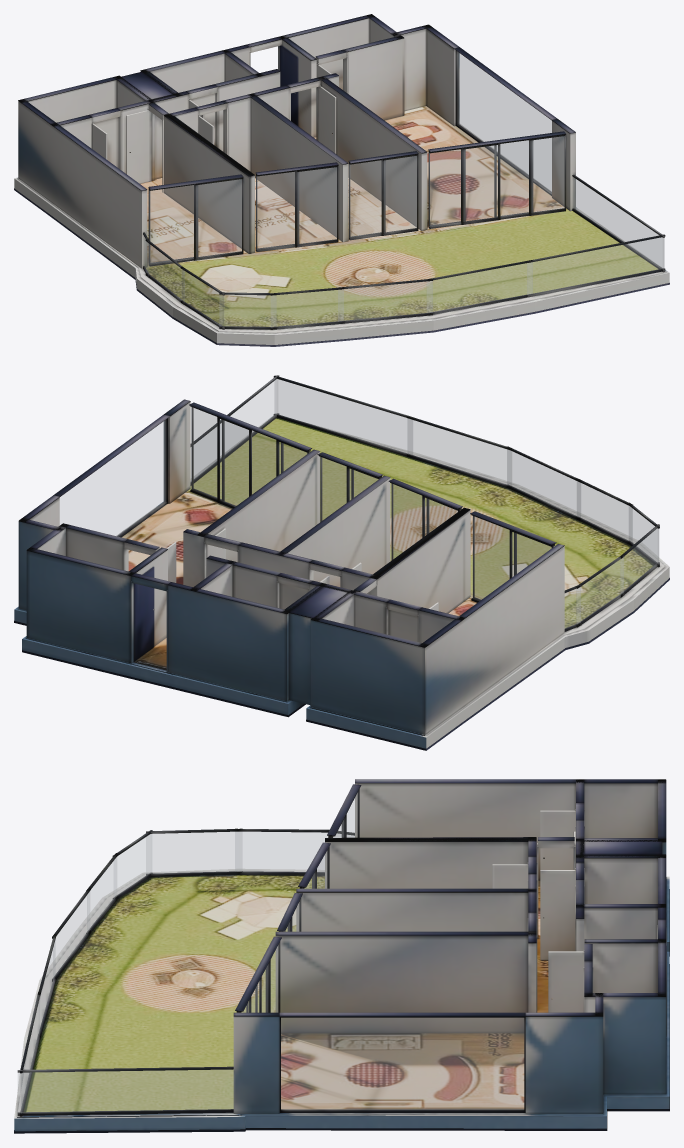
3 renders of one model, top to bottom at view 1: azimuth 30°, elevation 25°; view 2: azimuth 150°, elevation 25°; view 3: azimuth 270°, elevation 25°, orthographic. The views are drawn at different scales.
Visible parts, largest first — view 1: plan, glass3_m, glass0_m, glass4_m, glass1_m, glass2_m, railg1_m, railg2_m, railg3_m, railg0_m, railg4_m, railg5_m (+2 smaller); view 2: plan, glass4_m, glass3_m, railg1_m, railg2_m, glass0_m, railg3_m, railg0_m, glass1_m, railg4_m, glass2_m, railg7_m (+3 smaller); view 3: plan, glass4_m, railg0_m, railg6_m, railg7_m, railg5_m, railg3_m, railg4_m, glass3_m, railg1_m, railg2_m.
Part boxes in pixels (left/top/right/bottom): plan: left=14, top=14, right=669, bottom=346; glass3_m: left=429, top=136, right=564, bottom=226; glass0_m: left=149, top=179, right=241, bottom=263; glass4_m: left=457, top=52, right=551, bottom=192; glass1_m: left=256, top=167, right=336, bottom=249; glass2_m: left=349, top=156, right=416, bottom=237; railg1_m: left=527, top=237, right=664, bottom=294; railg2_m: left=427, top=262, right=532, bottom=312; railg3_m: left=338, top=281, right=432, bottom=321; railg0_m: left=573, top=177, right=663, bottom=269; railg4_m: left=271, top=289, right=343, bottom=327; railg5_m: left=219, top=295, right=276, bottom=326; plan: left=14, top=375, right=669, bottom=750; glass4_m: left=60, top=420, right=165, bottom=536; glass3_m: left=191, top=407, right=306, bottom=505; railg1_m: left=275, top=379, right=412, bottom=454; railg2_m: left=407, top=419, right=511, bottom=486; glass0_m: left=472, top=516, right=551, bottom=600; railg3_m: left=507, top=450, right=580, bottom=517; railg0_m: left=194, top=379, right=277, bottom=479; glass1_m: left=391, top=483, right=457, bottom=560; railg4_m: left=577, top=481, right=632, bottom=542; glass2_m: left=320, top=457, right=378, bottom=521; railg7_m: left=576, top=557, right=623, bottom=624; plan: left=14, top=779, right=669, bottom=1133; glass4_m: left=281, top=1018, right=523, bottom=1109; railg0_m: left=18, top=1070, right=233, bottom=1112; railg6_m: left=146, top=832, right=242, bottom=873; railg7_m: left=235, top=832, right=327, bottom=872; railg5_m: left=114, top=834, right=151, bottom=897; railg3_m: left=53, top=892, right=89, bottom=978; railg4_m: left=87, top=857, right=116, bottom=932; glass3_m: left=242, top=946, right=277, bottom=1012; railg1_m: left=21, top=1000, right=39, bottom=1112; railg2_m: left=39, top=941, right=55, bottom=1034.
Bounding box in the file's own units: 12.42 × 2.62 × 13.75.
Materials: 2 (1 with a texture image).
